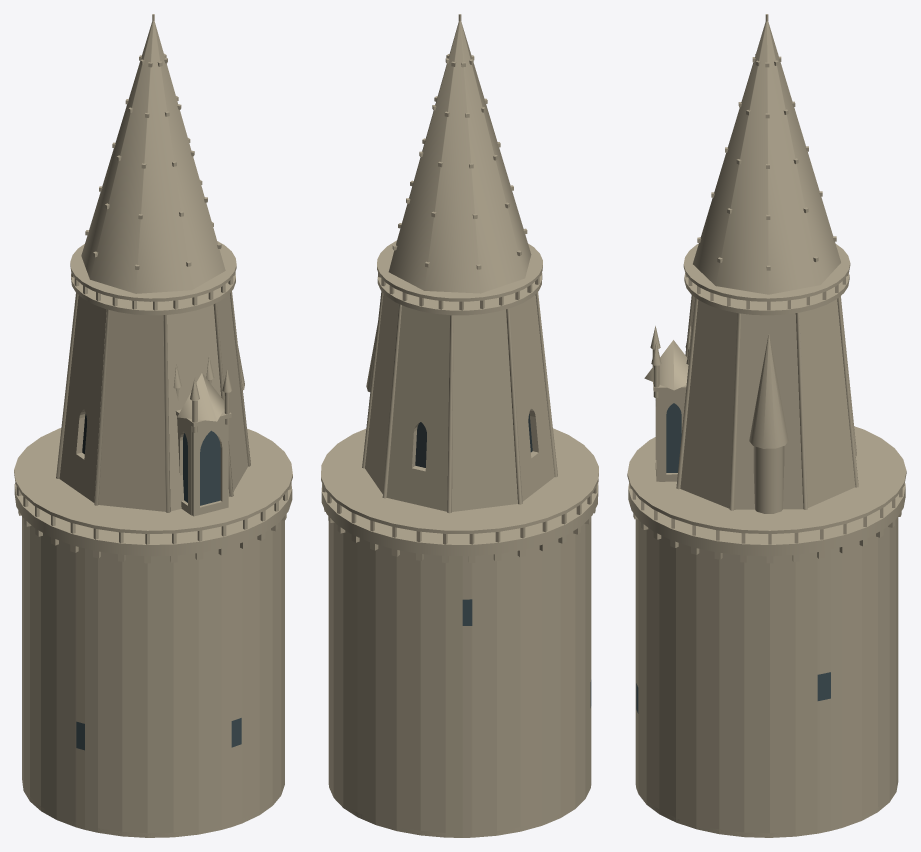
The model's file is tour-lanterne-rochelle-far.glb.
3 views of the same model, side by side, from view 1: azimuth 30°, elevation 25°; view 2: azimuth 150°, elevation 25°; view 3: azimuth 270°, elevation 25° (orthographic).
Visible parts, largest first — view 1: tour-lanterne-rochelle-0-plaster, tour-lanterne-rochelle-0-glass; view 2: tour-lanterne-rochelle-0-plaster, tour-lanterne-rochelle-0-shadow; view 3: tour-lanterne-rochelle-0-plaster, tour-lanterne-rochelle-0-glass.
Boxes of the visible parts, box(x1,y1,x2,y2) form: tour-lanterne-rochelle-0-plaster: box(14, 14, 292, 837); tour-lanterne-rochelle-0-glass: box(76, 430, 241, 750); tour-lanterne-rochelle-0-plaster: box(321, 14, 598, 837); tour-lanterne-rochelle-0-shadow: box(415, 414, 532, 467); tour-lanterne-rochelle-0-plaster: box(627, 14, 906, 837); tour-lanterne-rochelle-0-glass: box(636, 403, 830, 713).
Bounding box in the file's own units: 19.1 × 58 × 19.1.
